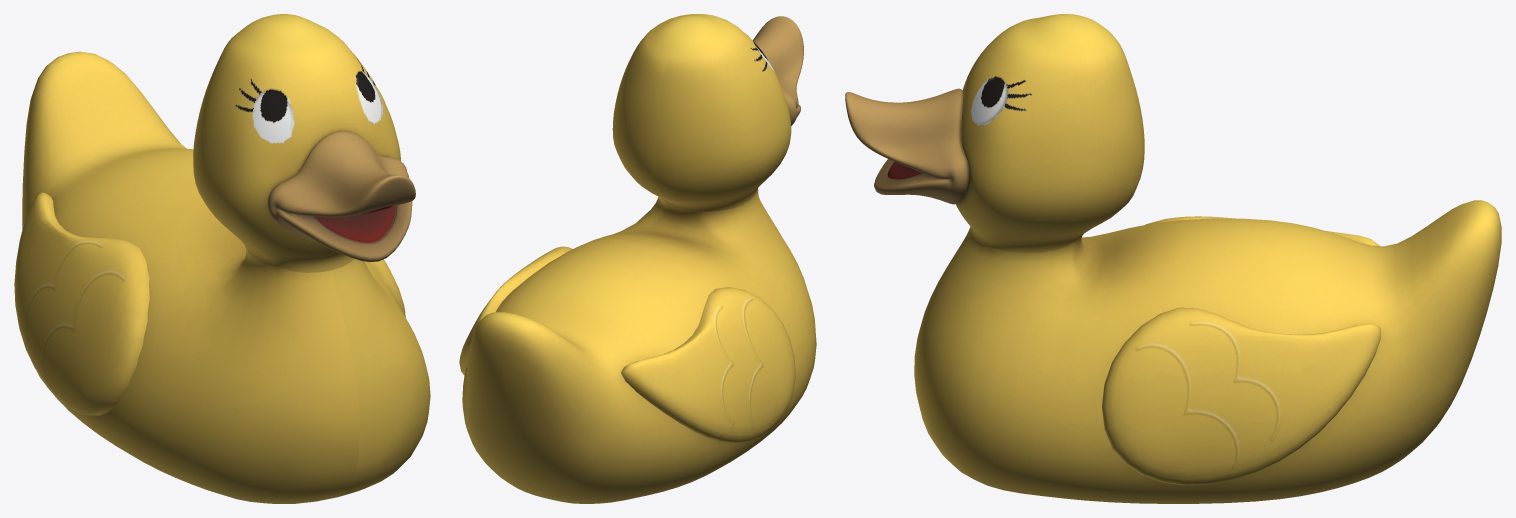
Rendered from Ente1.gltf.
The picture shows the model from 3 angles, left to right: view 1: azimuth 30°, elevation 25°; view 2: azimuth 150°, elevation 25°; view 3: azimuth 270°, elevation 25°; orthographic projection. The views are drawn at different scales.
Parts seen in each view (by area): view 1: 10602_Rubber_Duck_v1_L3; view 2: 10602_Rubber_Duck_v1_L3; view 3: 10602_Rubber_Duck_v1_L3.
Boxes of the visible parts, left/top/right/bottom form: 10602_Rubber_Duck_v1_L3: left=14, top=14, right=430, bottom=503; 10602_Rubber_Duck_v1_L3: left=459, top=14, right=816, bottom=503; 10602_Rubber_Duck_v1_L3: left=845, top=14, right=1501, bottom=503.
Bounding box in the file's own units: 5.14 × 6.95 × 9.38.
1 material, 1 textured.
